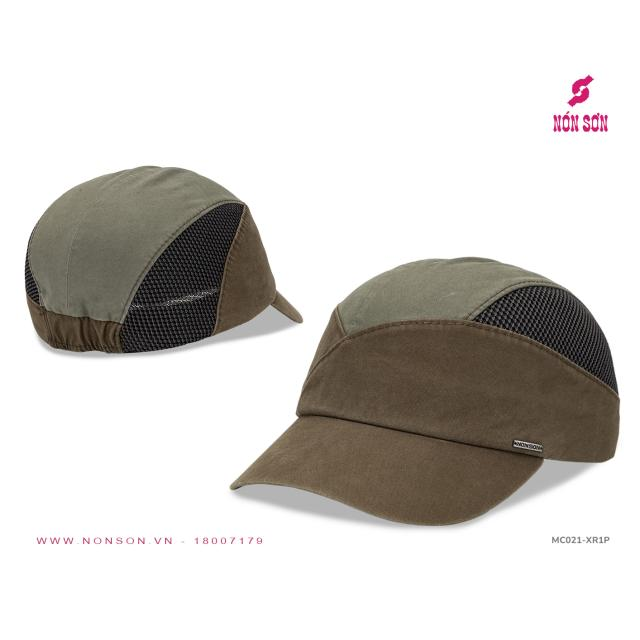Cap: (223, 249, 628, 535), (16, 161, 309, 359)
